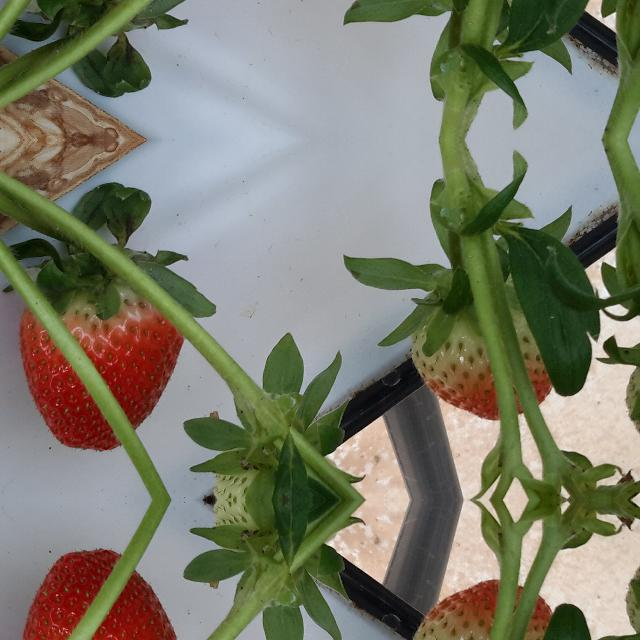Health_100: (17, 279, 185, 451), (17, 549, 185, 640)
Health_50: (410, 289, 558, 421), (410, 579, 558, 640)
